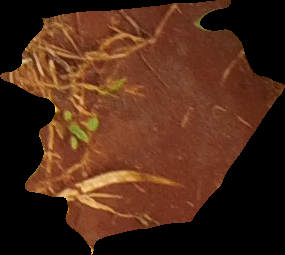soil: (2, 3, 282, 253)
